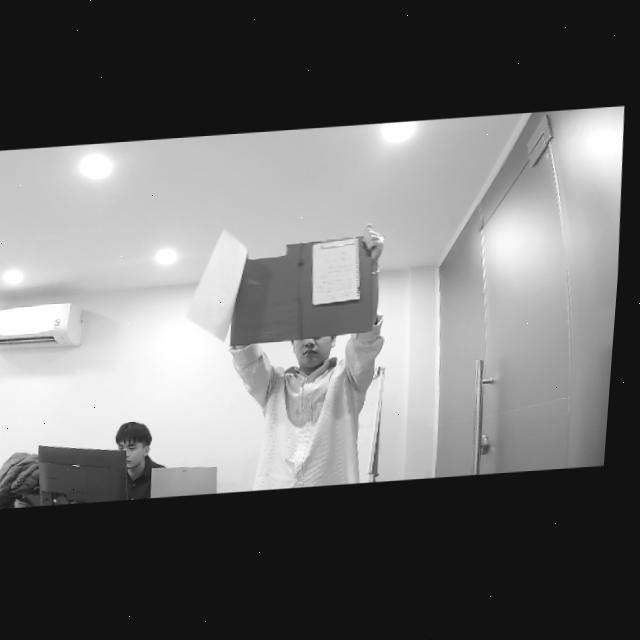document: (312, 238, 360, 305)
face: (115, 422, 167, 476)
